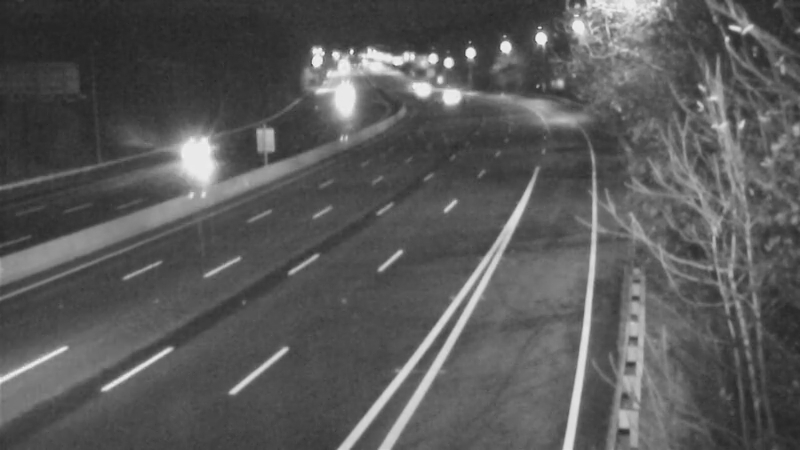vehicle: (157, 117, 237, 197), (397, 68, 447, 118), (425, 71, 475, 121), (318, 77, 368, 127)
